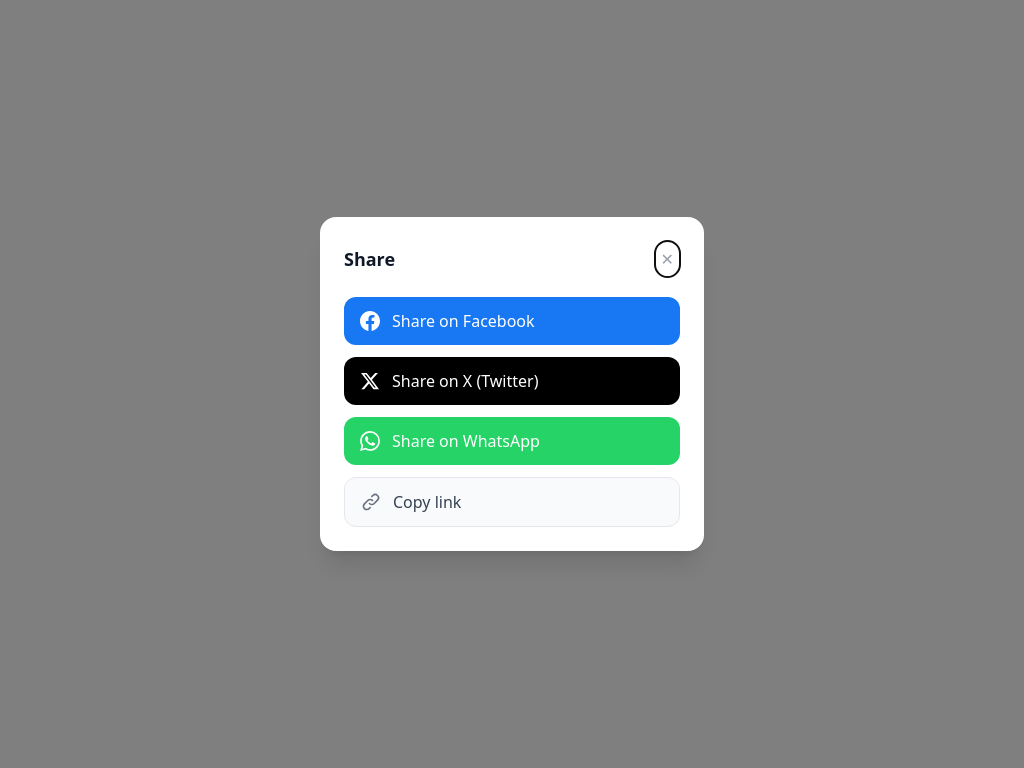
Test case: ShareModal › shows fallback input when clipboard is unavailable
Click the button "Copy link".
click(427, 502)  # box [344,477,680,527]
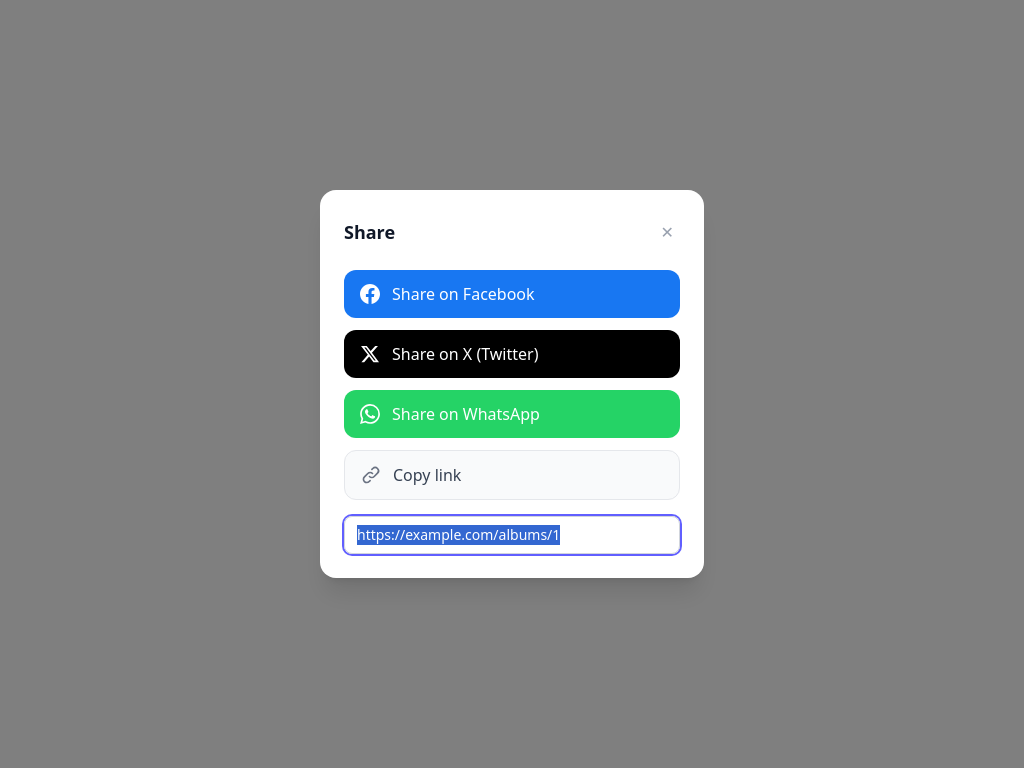
Now the field named "Share URL" holds "https://example.com/albums/1", box [344,516,680,554]
